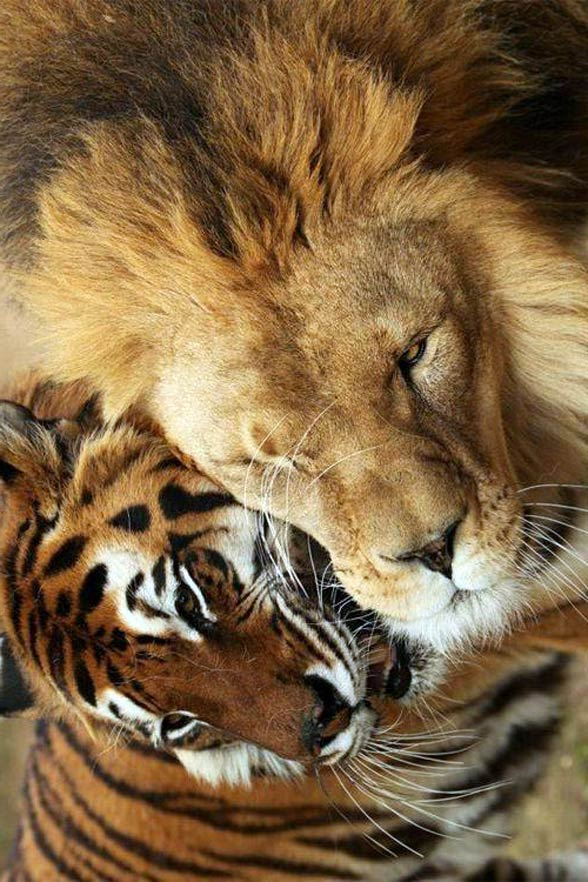lion: (2, 1, 588, 646)
tiger: (1, 383, 584, 882)
